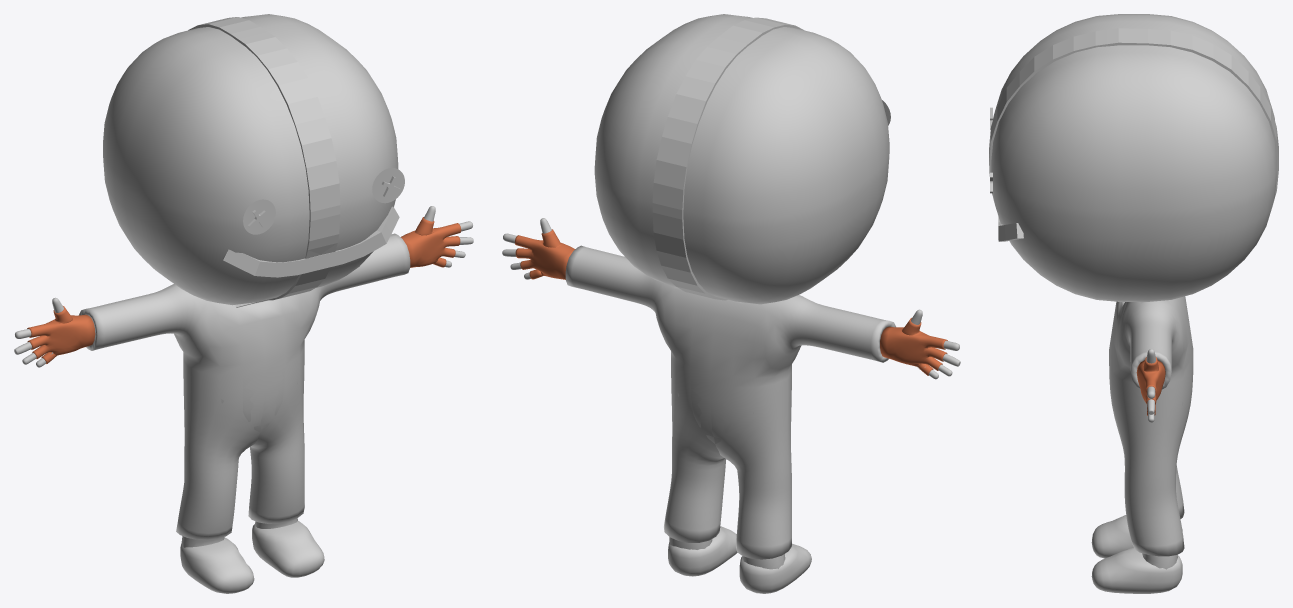
Rendered from Sam (2).fbx.
3 renders of one model, left to right at view 1: azimuth 30°, elevation 25°; view 2: azimuth 150°, elevation 25°; view 3: azimuth 270°, elevation 25°, orthographic.
Parts seen in each view (by area): view 1: Cabeza, Trajecito, RayaCabeza, Cube, Guantes, RayaCabezaSonrisa, Cuerpo, OjoDer, OjoIzq; view 2: Cabeza, Trajecito, RayaCabeza, Guantes, Cube, Cuerpo; view 3: Cabeza, Trajecito, RayaCabeza, Cube, Guantes, Cuerpo, RayaCabezaSonrisa.
Part boxes in pixels (x1,y1,x2,y2): Cabeza: [103, 14, 398, 305]; Trajecito: [78, 233, 410, 539]; RayaCabeza: [188, 17, 340, 300]; Cube: [180, 521, 324, 593]; Guantes: [27, 217, 461, 363]; RayaCabezaSonrisa: [223, 206, 399, 277]; Cuerpo: [14, 206, 473, 547]; OjoDer: [372, 168, 404, 203]; OjoIzq: [243, 199, 275, 234]; Cabeza: [594, 14, 889, 304]; Trajecito: [565, 245, 895, 559]; RayaCabeza: [652, 17, 803, 300]; Guantes: [515, 229, 947, 375]; Cube: [668, 526, 811, 593]; Cuerpo: [502, 218, 960, 569]; Cabeza: [991, 14, 1276, 301]; Trajecito: [1109, 296, 1193, 556]; RayaCabeza: [989, 28, 1278, 196]; Cube: [1091, 515, 1182, 593]; Guantes: [1136, 357, 1165, 415]; Cuerpo: [1142, 349, 1177, 569]; RayaCabezaSonrisa: [998, 216, 1023, 241].
Bounding box in the file's own units: 231 × 260 × 127.
